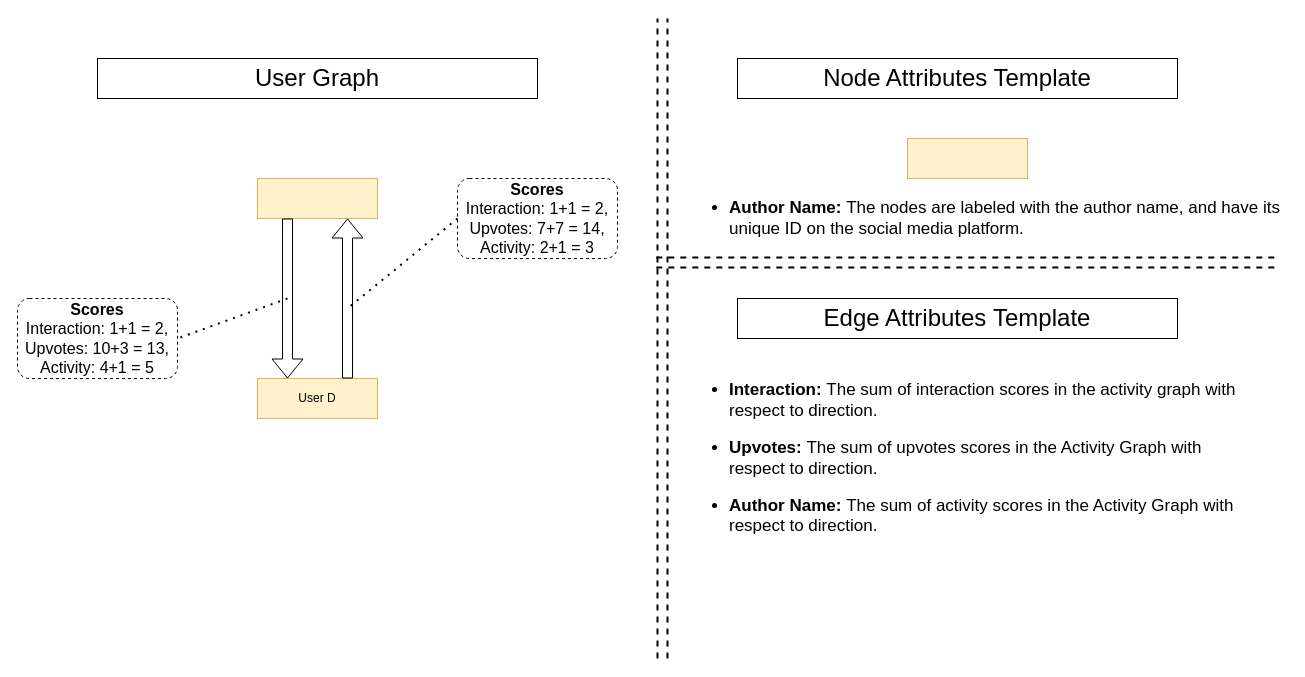
The diagram is 1305 pixels wide and 677 high, and some of its shapes have lost their labels. The shapes that lost their labels are listed below. From the top down, each one's centre as x and y in pixels, then its label:
(967,158): Author Name
(317,198): User A
